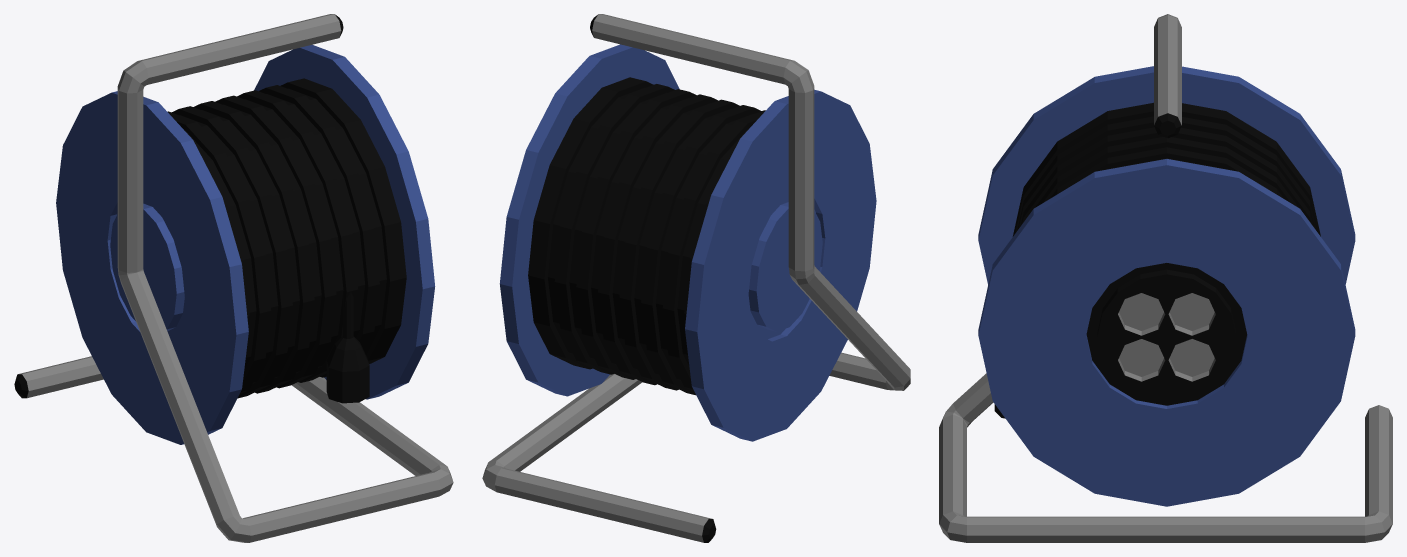
3 renders of one model, left to right at view 1: azimuth 30°, elevation 25°; view 2: azimuth 150°, elevation 25°; view 3: azimuth 270°, elevation 25°, orthographic. The views are drawn at different scales.
Parts seen in each view (by area): view 1: Kabeltrommel; view 2: Kabeltrommel; view 3: Kabeltrommel.
Boxes of the visible parts, box(x1,y1,x2,y2) form: Kabeltrommel: box(14, 14, 453, 542); Kabeltrommel: box(482, 14, 910, 542); Kabeltrommel: box(939, 14, 1392, 542).
Size of the model in its own units: 0.2359 by 0.3887 by 0.3762.
